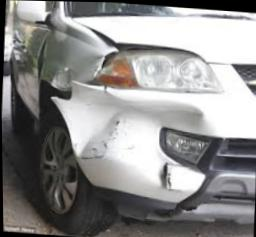Bonnet: (68, 9, 206, 60)
Bumper: (52, 79, 249, 230)
Fender: (37, 8, 118, 119)
Light: (84, 43, 223, 91)
